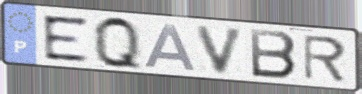A: (142, 22, 199, 73)
B: (248, 27, 299, 81)
E: (40, 14, 92, 63)
Q: (91, 14, 145, 73)
R: (301, 34, 348, 84)
V: (194, 24, 248, 77)
